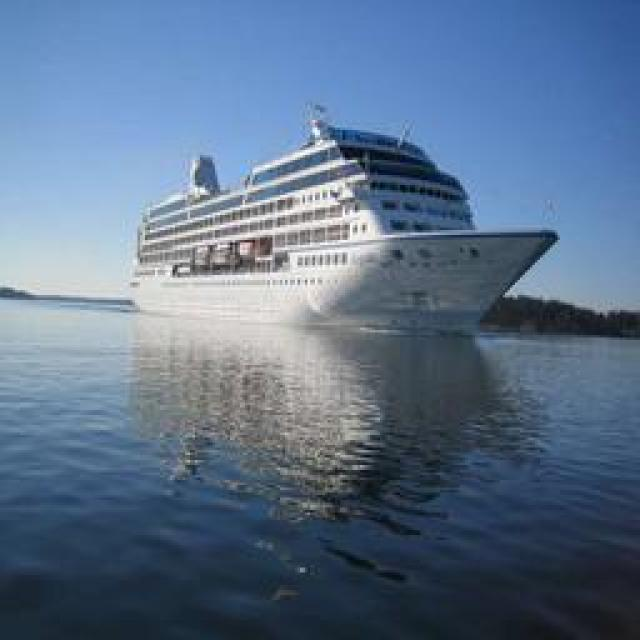CIV_Ship: (128, 116, 524, 324)
